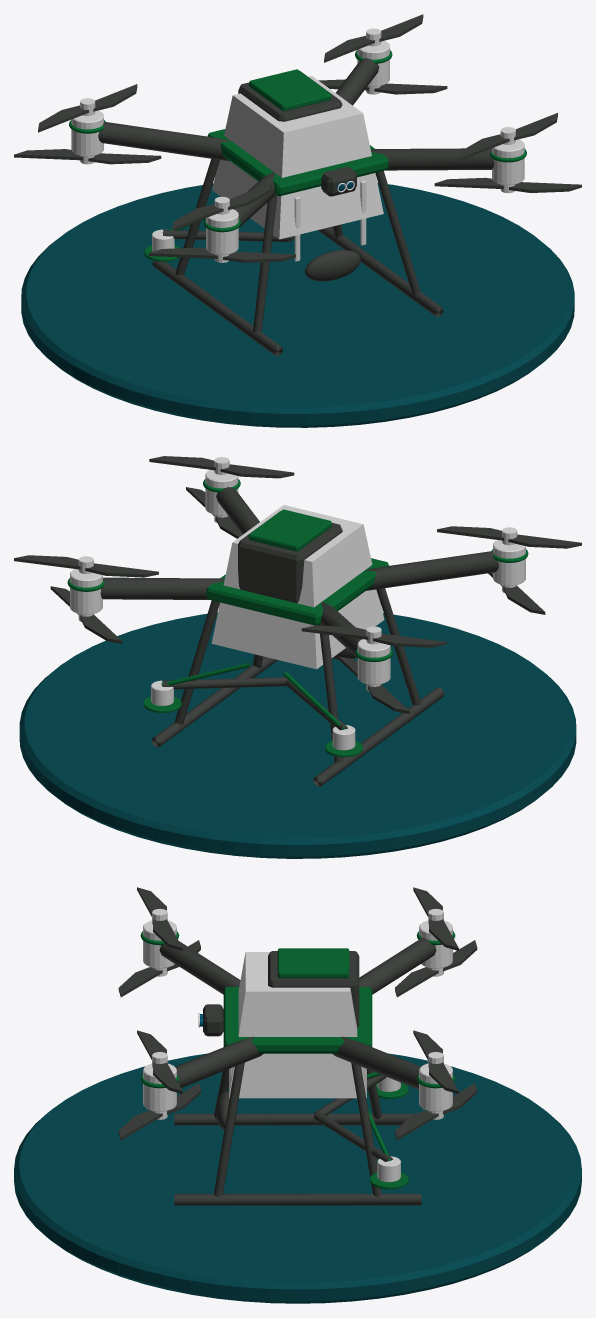
Rendered from dji-agras-t50.glb.
3 renders of one model, top to bottom at view 1: azimuth 30°, elevation 25°; view 2: azimuth 150°, elevation 25°; view 3: azimuth 270°, elevation 25°, orthographic. The views are drawn at different scales.
Visible parts, largest first — view 1: pedestal, body; view 2: pedestal, body; view 3: pedestal, body.
Boxes of the visible parts, x1=… form: pedestal: x1=21, y1=183, x2=574, y2=427; body: x1=14, y1=14, x2=581, y2=356; pedestal: x1=19, y1=612, x2=576, y2=858; body: x1=14, y1=456, x2=581, y2=786; pedestal: x1=14, y1=1053, x2=581, y2=1303; body: x1=118, y1=887, x2=477, y2=1205.
Bounding box in the file's own units: 4.4 × 1.93 × 4.4.
